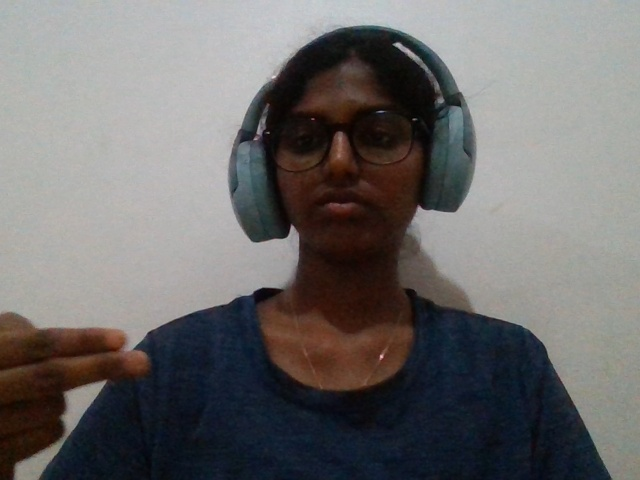H: (3, 270, 145, 480)
